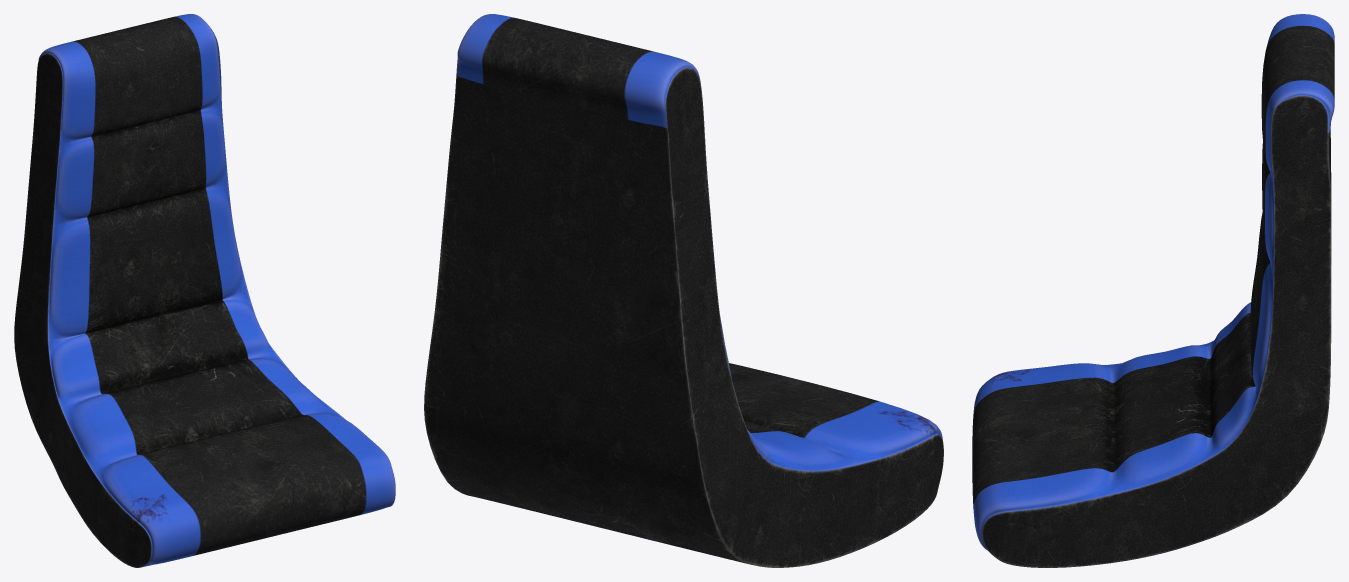
File: gaming_rocker_chair.glb
3 renders of one model, left to right at view 1: azimuth 30°, elevation 25°; view 2: azimuth 150°, elevation 25°; view 3: azimuth 270°, elevation 25°, orthographic. The views are drawn at different scales.
Visible parts, largest first — view 1: pCube1; view 2: pCube1; view 3: pCube1.
Part boxes in pixels (x1,y1,x2,y2): pCube1: [14, 14, 395, 567]; pCube1: [424, 14, 943, 567]; pCube1: [972, 14, 1334, 567].
Size of the model in its own units: 0.2098 by 0.3212 by 0.2349.
Materials: 1 (1 with a texture image).
